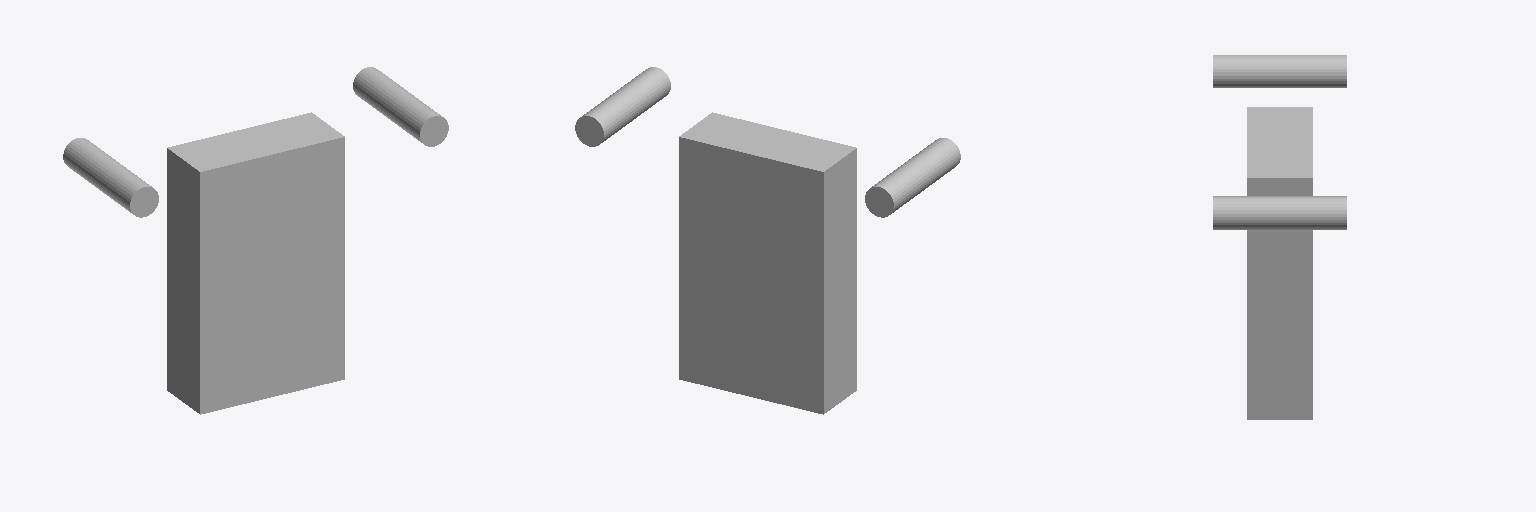
3 views of the same model, side by side, from view 1: azimuth 30°, elevation 25°; view 2: azimuth 150°, elevation 25°; view 3: azimuth 270°, elevation 25° (orthographic).
Visible parts, largest first — view 1: Shopping_Bag; view 2: Shopping_Bag; view 3: Shopping_Bag.
Part boxes in pixels (x1,y1,x2,y2): Shopping_Bag: (63,67,448,414); Shopping_Bag: (575,67,960,414); Shopping_Bag: (1213,55,1346,419).
Size of the model in its own units: 2 by 1.55 by 0.7273.